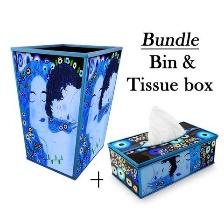tissue: (136, 99, 193, 151)
